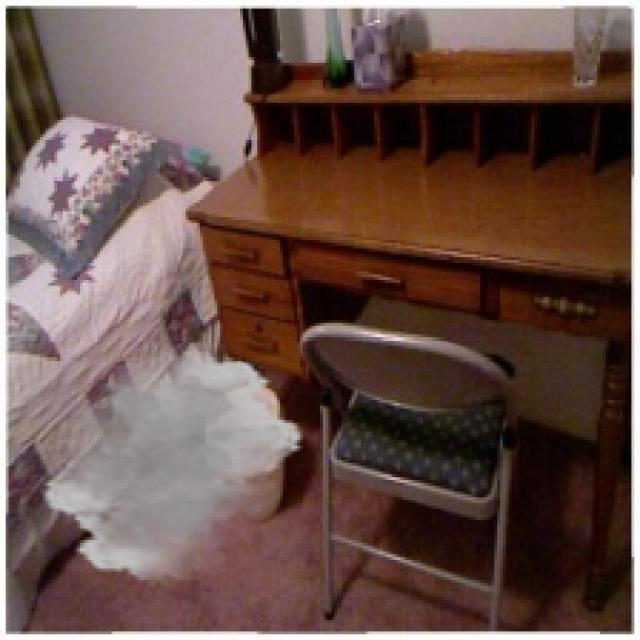Smoke: (40, 346, 306, 586)
